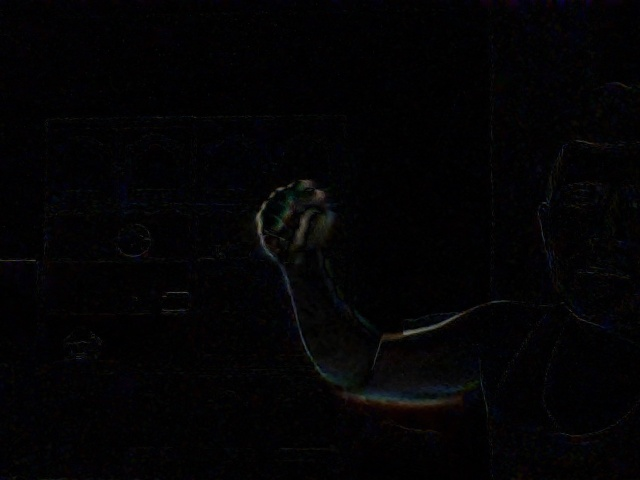hand_fi: (246, 164, 338, 273)
